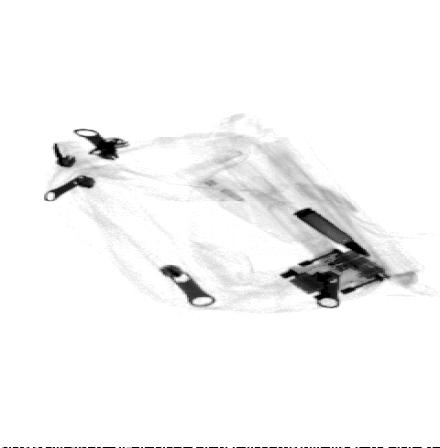Bullet: (290, 206, 373, 258)
